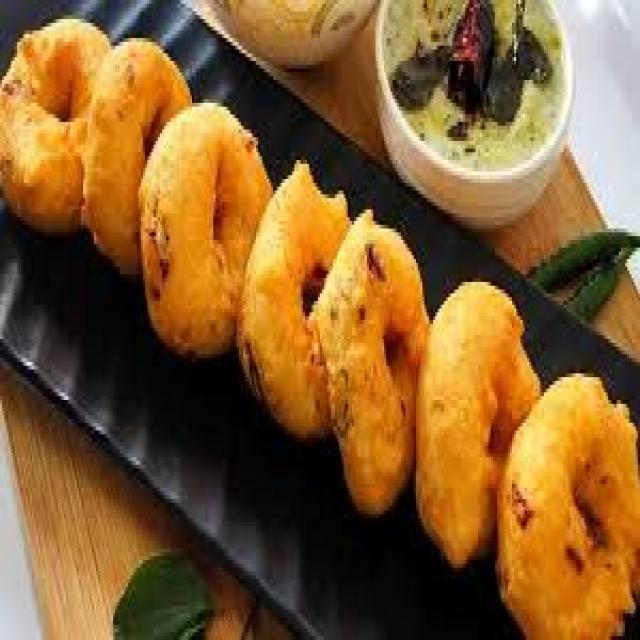MEDU VADA: (498, 380, 638, 636), (141, 103, 276, 351), (415, 282, 537, 553), (324, 218, 428, 508), (246, 160, 353, 424), (1, 14, 113, 224), (86, 36, 188, 249)
